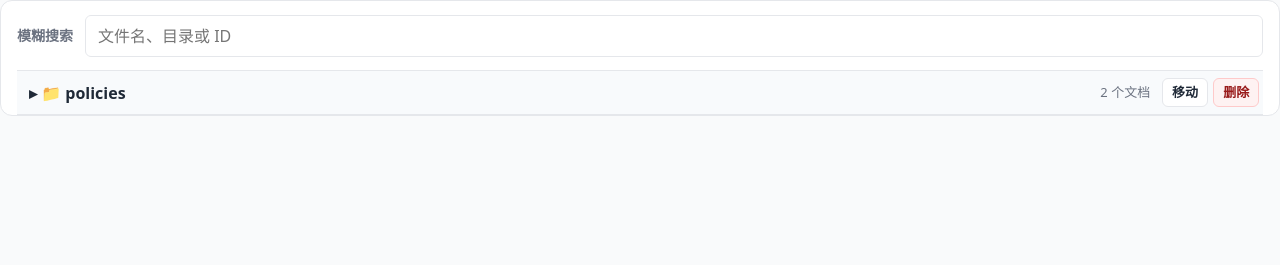
Test case: source file browser › renders collapsible nested folders
Expected: the text "one.md" is not shown
What coordinates should you click on to do the following:
click the button with aria-label "展开文件夹 policies"
I would click on:
 (95, 93)
Its box is top-left (29, 81), bottom-right (1084, 105).
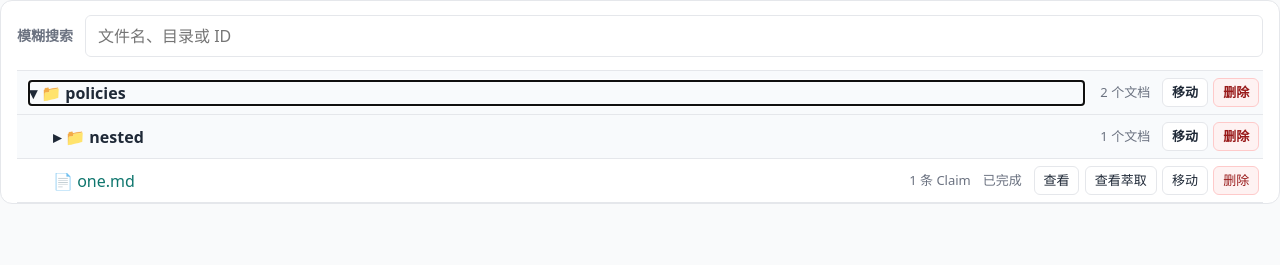
Expected: the text "two.md" is not shown
Expected: the button "📄 one.md" is shown, top-left (53, 169), bottom-right (893, 193)
What coordinates should you click on to do the following:
click the button with aria-label "展开文件夹 nested"
I would click on:
 (117, 137)
Its box is top-left (53, 125), bottom-right (1084, 149).
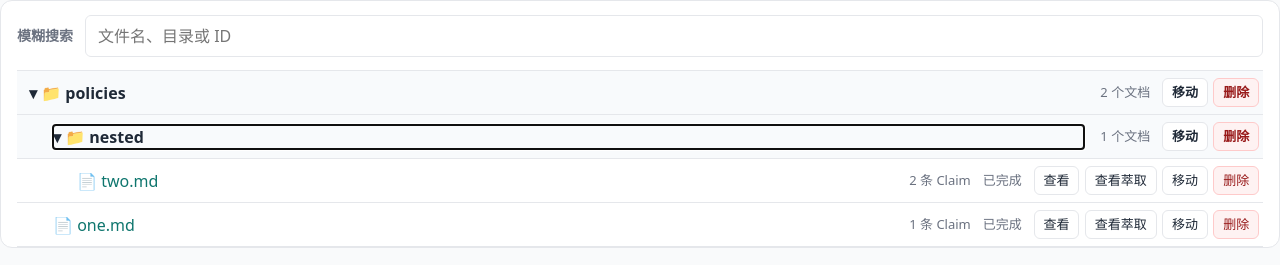
Expected: the button "📄 two.md" is shown, top-left (77, 169), bottom-right (893, 193)
What coordinates should you click on to do the following:
click the button with aria-label "收起文件夹 policies"
I would click on:
 (95, 93)
Its box is top-left (29, 81), bottom-right (1084, 105).
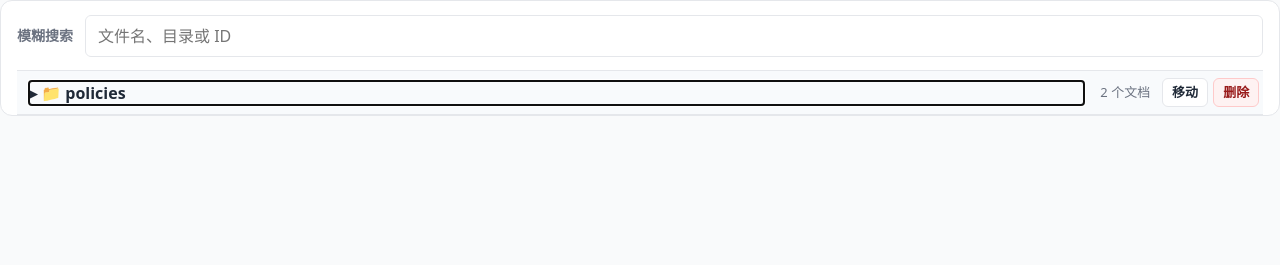
Expected: the button "one.md" is gone
